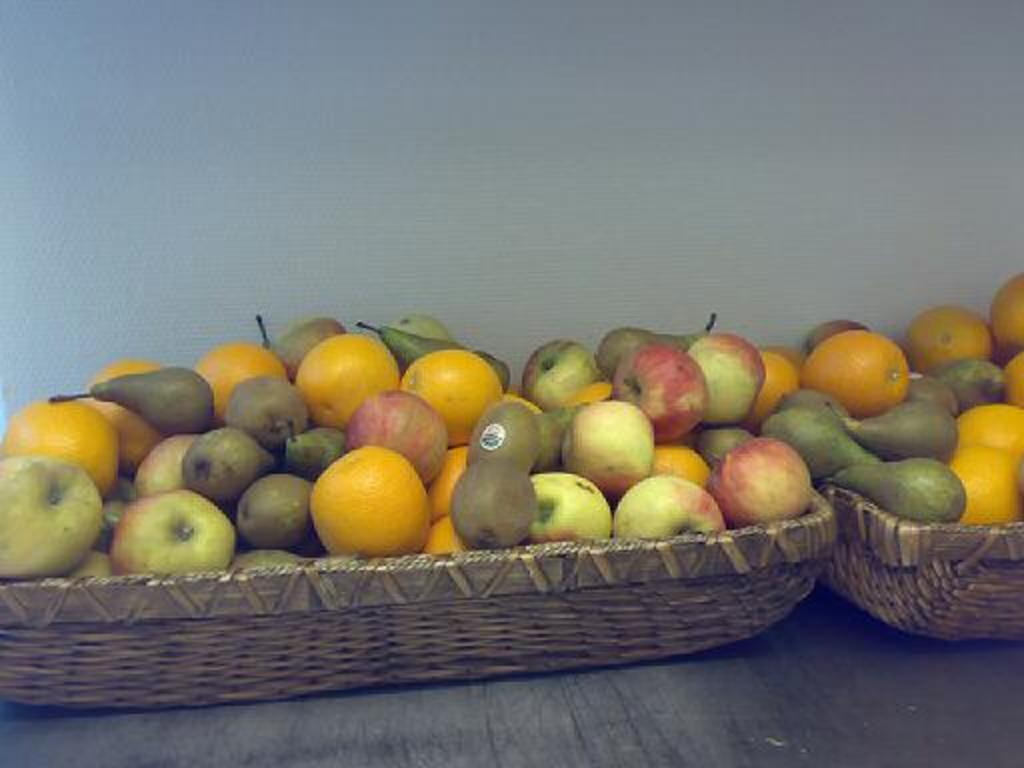Apple: (526, 327, 807, 543), (0, 452, 103, 577), (106, 481, 231, 576), (344, 389, 448, 481), (128, 428, 211, 485), (65, 548, 117, 577)
